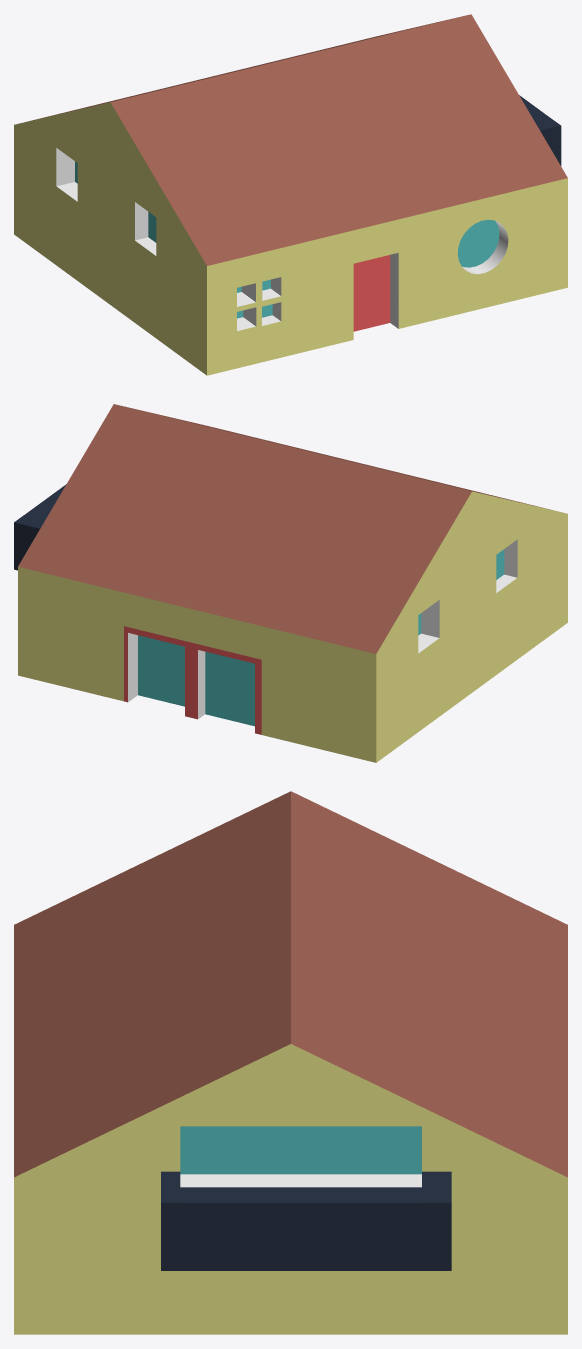
The model's file is maison.dae.
3 views of the same model, one above another, from view 1: azimuth 30°, elevation 25°; view 2: azimuth 150°, elevation 25°; view 3: azimuth 270°, elevation 25° (orthographic). The views are drawn at different scales.
Parts seen in each view (by area): view 1: SketchUp (×9); view 2: SketchUp (×10); view 3: SketchUp (×5).
Part boxes in pixels (x1,y1,x2,y2): SketchUp (×9): (14, 14, 567, 375); SketchUp (×10): (14, 404, 567, 762); SketchUp (×5): (14, 791, 567, 1334).
Bounding box in the file's own units: 987 × 815 × 472.
